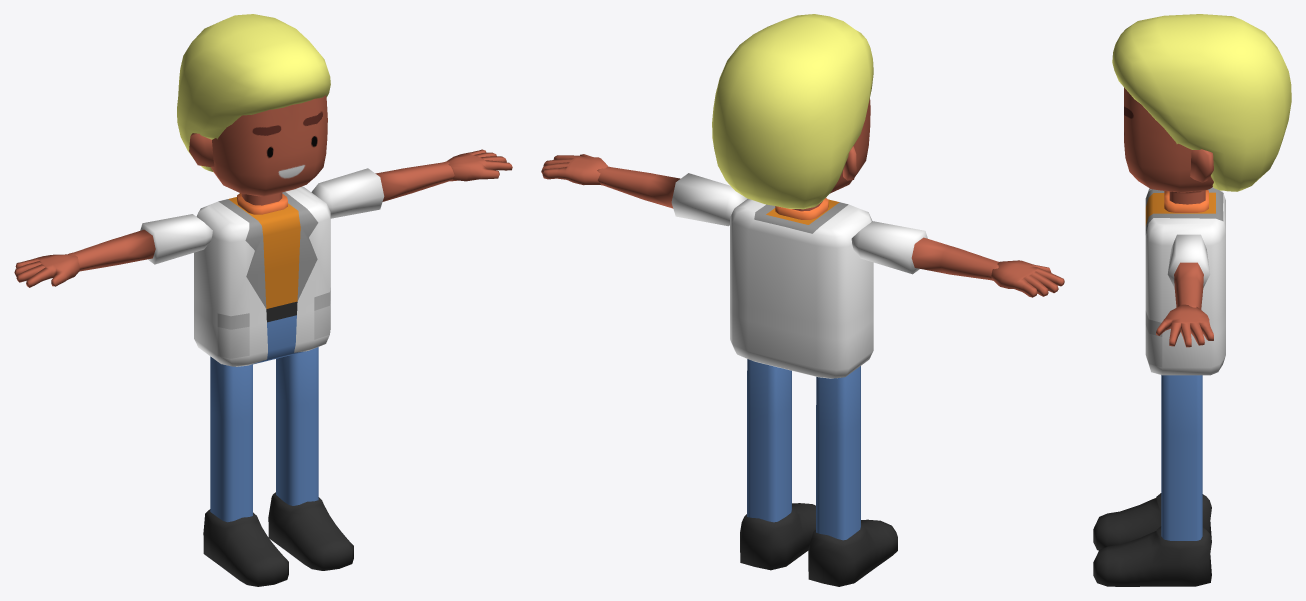
File: NPC_Black02_BlondeHair04.gltf
3 views of the same model, side by side, from view 1: azimuth 30°, elevation 25°; view 2: azimuth 150°, elevation 25°; view 3: azimuth 270°, elevation 25° (orthographic). The views are drawn at different scales.
Visible parts, largest first — view 1: NPC_Corpo_Black2_BlondeHair.004; view 2: NPC_Corpo_Black2_BlondeHair.004; view 3: NPC_Corpo_Black2_BlondeHair.004.
Boxes of the visible parts, x1,y1,x2,y2 form: NPC_Corpo_Black2_BlondeHair.004: [14, 14, 512, 586]; NPC_Corpo_Black2_BlondeHair.004: [541, 14, 1064, 586]; NPC_Corpo_Black2_BlondeHair.004: [1093, 14, 1291, 586].
Bounding box in the file's own units: 2.31 × 2.3 × 0.7742.
1 material, 1 textured.
